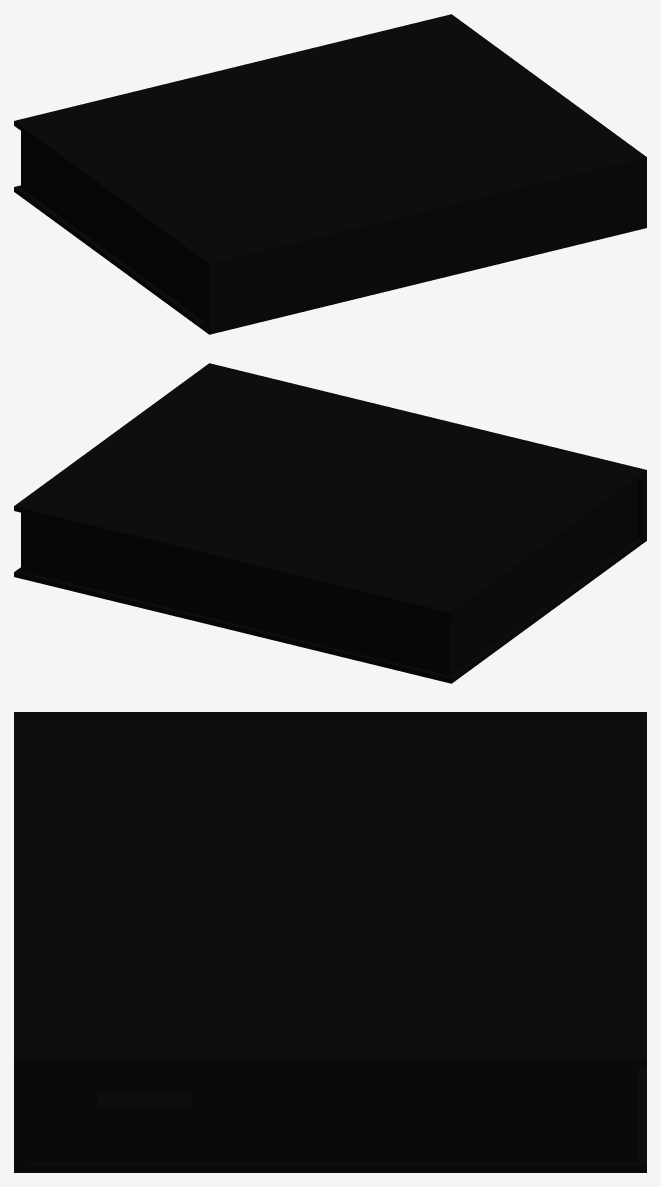
3 views of the same model, one above another, from view 1: azimuth 30°, elevation 25°; view 2: azimuth 150°, elevation 25°; view 3: azimuth 270°, elevation 25° (orthographic). The views are drawn at different scales.
Parts seen in each view (by area): view 1: Object_0; view 2: Object_0; view 3: Object_0.
Part boxes in pixels (left/top/right/bottom): Object_0: left=14, top=14, right=646, bottom=334; Object_0: left=14, top=363, right=646, bottom=683; Object_0: left=14, top=712, right=646, bottom=1172.
Size of the model in its own units: 10 by 1.5 by 7.5.
